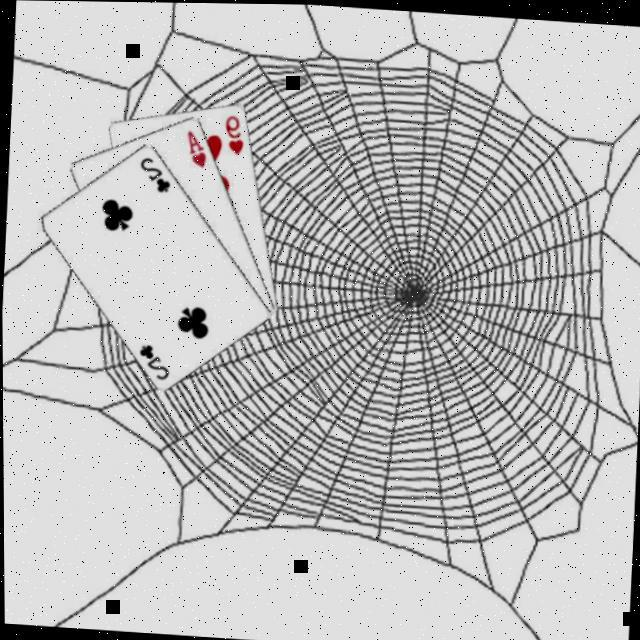2C: (137, 154, 177, 196), (136, 341, 174, 383)
9H: (223, 112, 249, 158)
AH: (184, 128, 212, 171)
